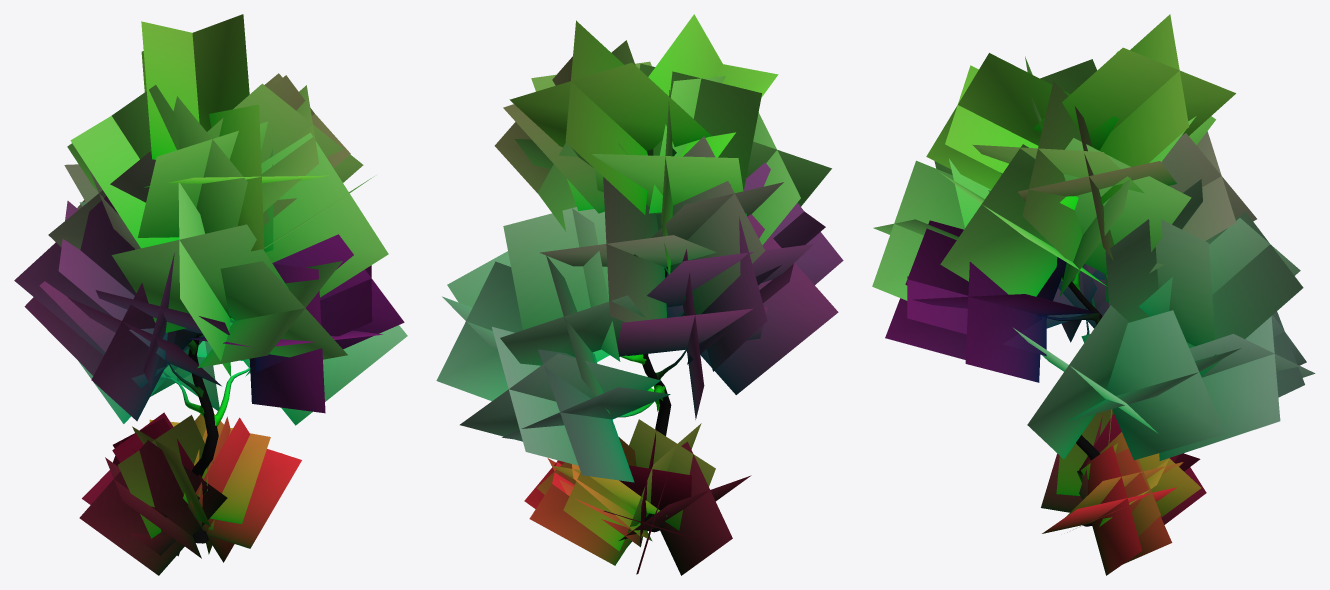
Rendered from M_P12_Tree_3.fbx.
The picture shows the model from 3 angles, left to right: view 1: azimuth 30°, elevation 25°; view 2: azimuth 150°, elevation 25°; view 3: azimuth 270°, elevation 25°; orthographic projection.
Parts seen in each view (by area): view 1: Tree_3; view 2: Tree_3; view 3: Tree_3.
Boxes of the visible parts, x1,y1,x2,y2 form: Tree_3: (14,14,407,575); Tree_3: (436,14,843,575); Tree_3: (872,14,1315,575).
Size of the model in its own units: 181 by 276 by 205.
